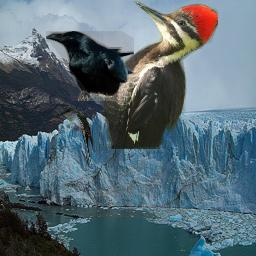Crow: (46, 31, 134, 101)
Cuckoo: (58, 106, 94, 165)
Woodpecker: (83, 1, 218, 149)
